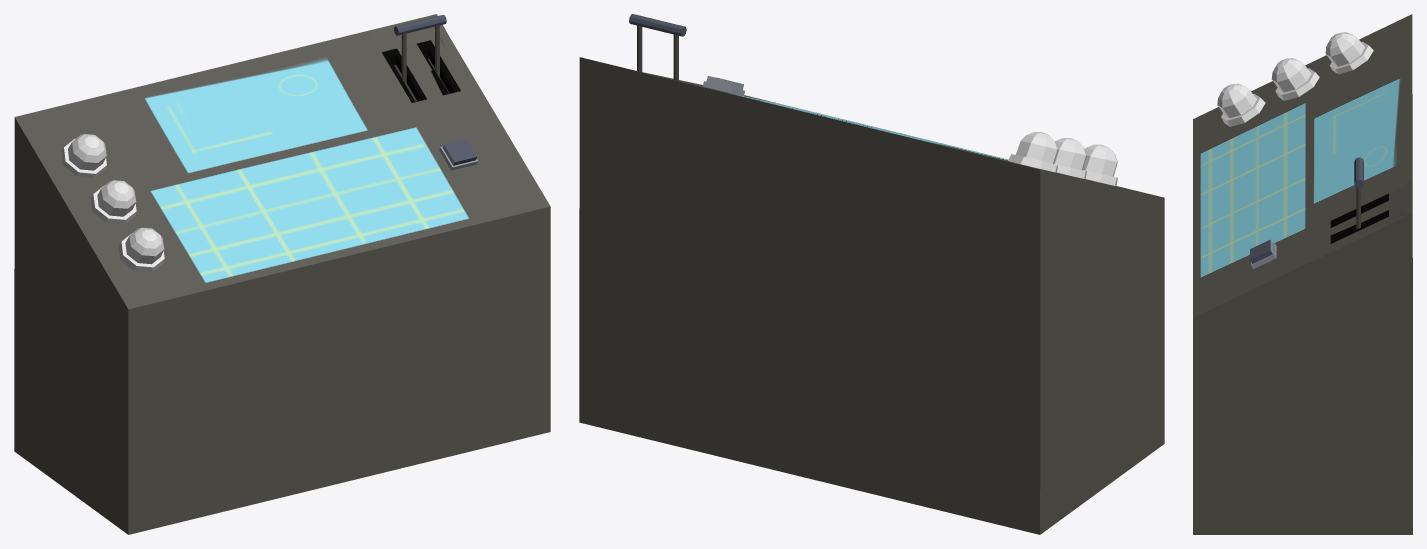
The model's file is PanelDeMandos.fbx.
3 views of the same model, side by side, from view 1: azimuth 30°, elevation 25°; view 2: azimuth 150°, elevation 25°; view 3: azimuth 270°, elevation 25° (orthographic). The views are drawn at different scales.
Parts seen in each view (by area): view 1: Cube, Circle.002, Cylinder, Cube.001; view 2: Cube, Circle.002, Cylinder; view 3: Cube, Circle.002, Cube.001, Cylinder.
Part boxes in pixels (bbox=[...]): Cube: bbox=[14, 14, 550, 534]; Circle.002: bbox=[61, 134, 164, 272]; Cylinder: bbox=[394, 15, 446, 85]; Cube.001: bbox=[439, 139, 477, 170]; Cube: bbox=[579, 57, 1164, 534]; Circle.002: bbox=[1008, 132, 1117, 186]; Cylinder: bbox=[629, 14, 686, 80]; Cube: bbox=[1193, 14, 1412, 534]; Circle.002: bbox=[1217, 32, 1373, 126]; Cube.001: bbox=[1250, 239, 1276, 269]; Cylinder: bbox=[1354, 157, 1363, 229].
Bounding box in the file's own units: 253 × 206 × 119.
